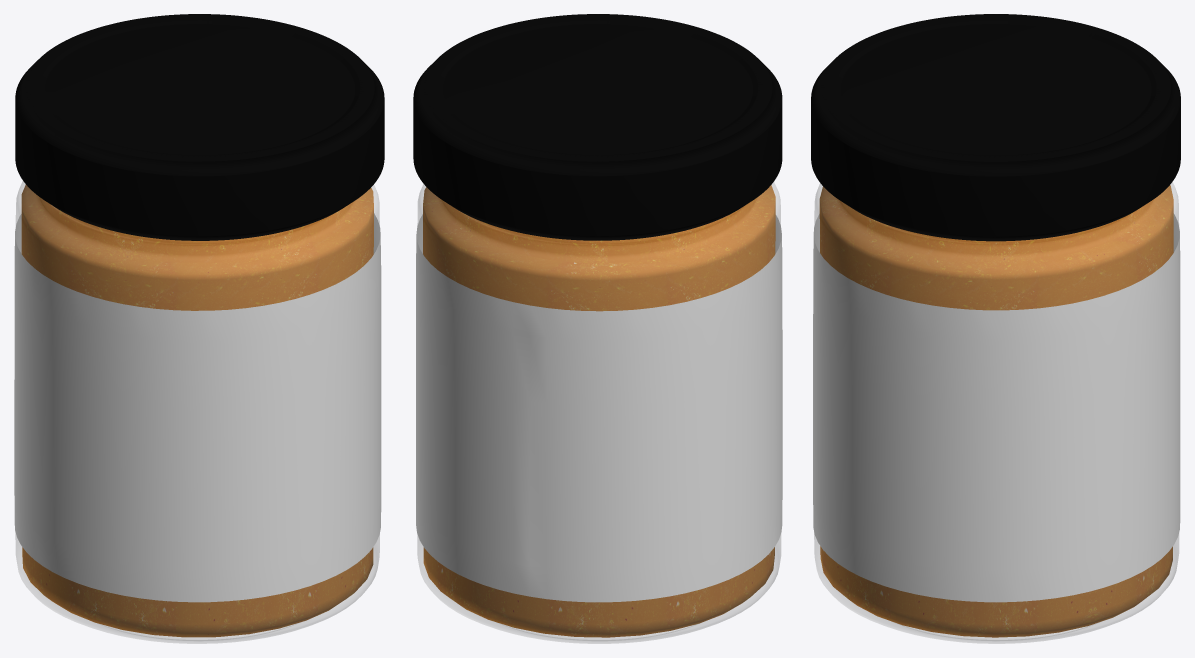
Rendered from jar-450g-v4.glb.
3 views of the same model, side by side, from view 1: azimuth 30°, elevation 25°; view 2: azimuth 150°, elevation 25°; view 3: azimuth 270°, elevation 25° (orthographic).
Visible parts, largest first — view 1: label_object_450g, lid_object_450g, jar_object_450g, honey_object_450g; view 2: label_object_450g, lid_object_450g, jar_object_450g, honey_object_450g; view 3: label_object_450g, lid_object_450g, jar_object_450g, honey_object_450g.
Part boxes in pixels (x1,y1,x2,y2): label_object_450g: [14, 213, 381, 602]; lid_object_450g: [15, 14, 384, 240]; jar_object_450g: [15, 181, 379, 643]; honey_object_450g: [21, 184, 373, 637]; label_object_450g: [416, 214, 782, 602]; lid_object_450g: [413, 14, 782, 240]; jar_object_450g: [417, 182, 780, 643]; honey_object_450g: [423, 185, 775, 637]; label_object_450g: [813, 214, 1180, 602]; lid_object_450g: [811, 14, 1180, 241]; jar_object_450g: [814, 182, 1178, 643]; honey_object_450g: [819, 185, 1173, 637].
Bounding box in the file's own units: 0.0742 × 0.1094 × 0.0741.
Materials: 4 (1 with a texture image).
